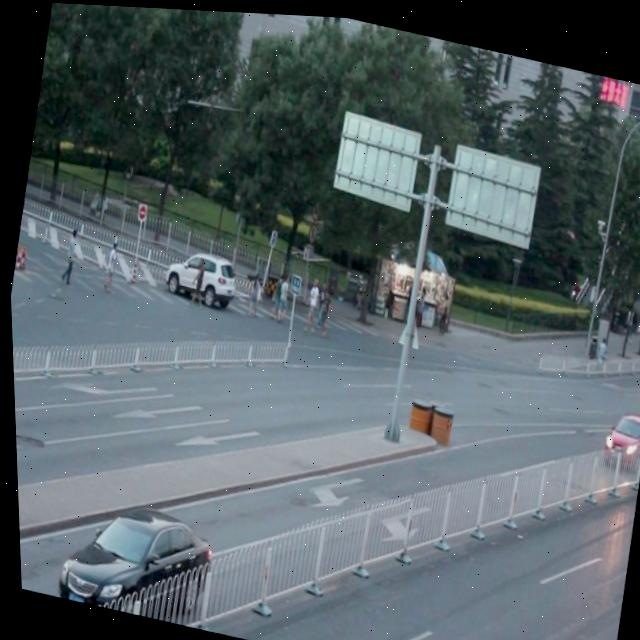car: (46, 485, 216, 628), (160, 241, 237, 306), (595, 399, 640, 462)
